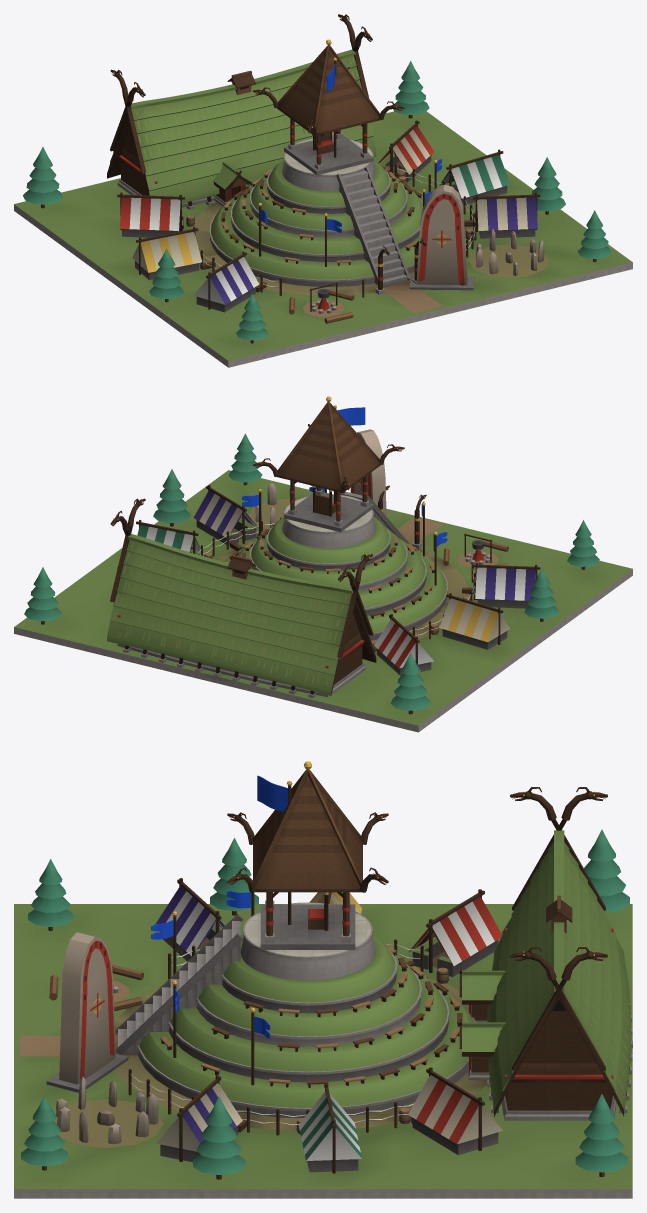
The model's file is lm_thing.glb.
3 views of the same model, one above another, from view 1: azimuth 30°, elevation 25°; view 2: azimuth 150°, elevation 25°; view 3: azimuth 270°, elevation 25° (orthographic). The views are drawn at different scales.
Visible parts, largest first — view 1: lm_thing; view 2: lm_thing; view 3: lm_thing.
Part boxes in pixels (x1,y1,x2,y2): lm_thing: (14,14,632,367); lm_thing: (14,396,632,732); lm_thing: (14,761,632,1198).
Bounding box in the file's own units: 2.21 × 1.06 × 2.02.
1 material, 1 textured.
